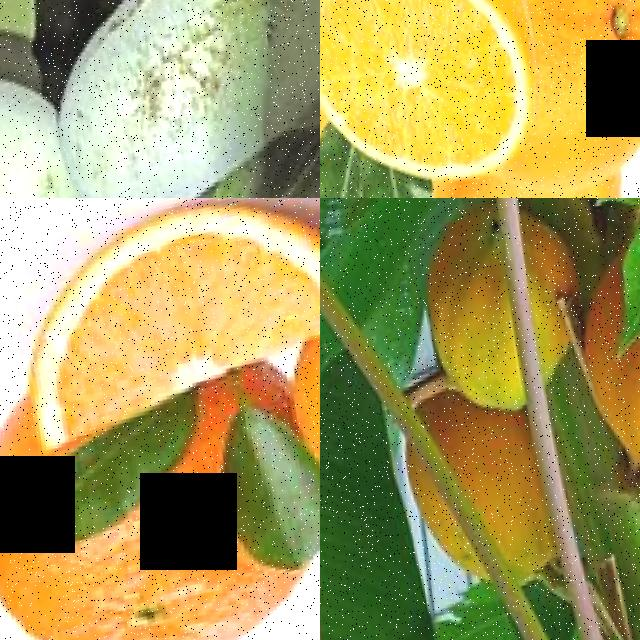orange: (0, 198, 320, 448), (0, 424, 320, 640), (320, 0, 539, 198), (497, 0, 640, 198)
pawpaw: (418, 198, 587, 428)
